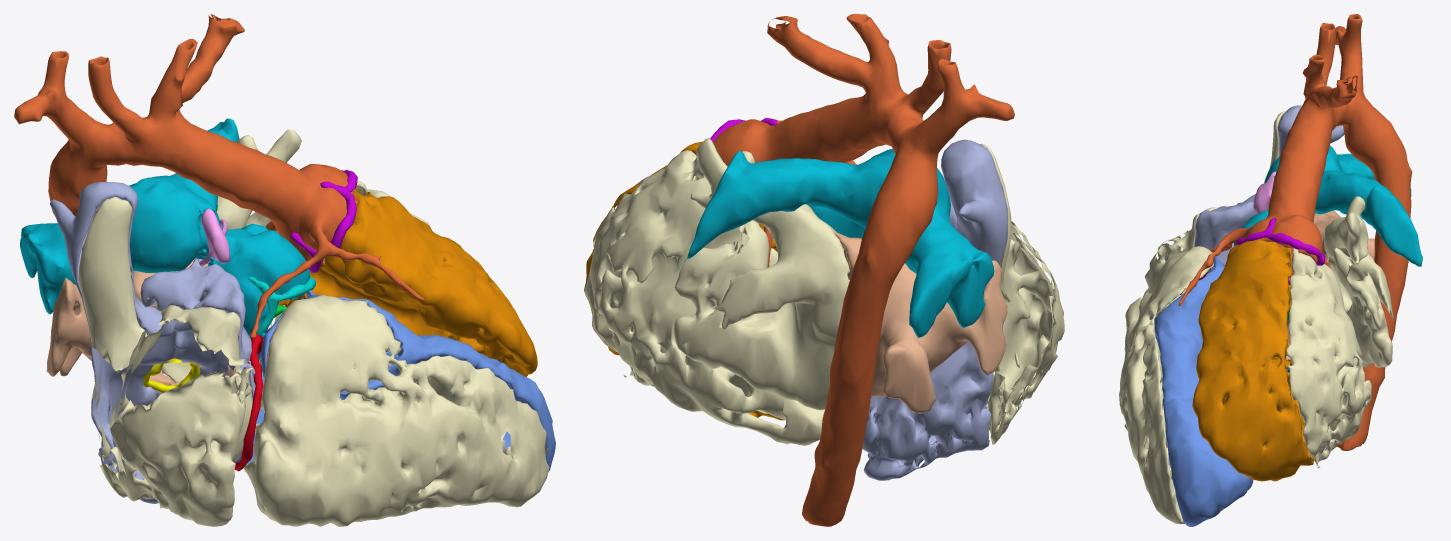
The model's file is {S,L,L}, ccTGA, subPVSD, ASD.gltf.
3 renders of one model, left to right at view 1: azimuth 30°, elevation 25°; view 2: azimuth 150°, elevation 25°; view 3: azimuth 270°, elevation 25°, orthographic. The views are drawn at different scales.
Parts seen in each view (by area): view 1: resected, ao, rv, pa, ra, lv, la, aov, mv, band, pv, asd; view 2: resected, ao, pa, ra, la, rv; view 3: resected, rv, ao, lv, pa, ra, aov, la, band.
Boxes of the visible parts, x1,y1,x2,y2 form: resected: (78,129,549,526); ao: (14,14,426,338); rv: (259,187,537,376); pa: (20,118,309,337); ra: (50,182,257,503); lv: (246,290,555,471); la: (46,258,235,385); aov: (290,169,357,272); mv: (234,334,263,471); band: (197,208,229,266); pv: (248,277,316,338); asd: (143,358,200,392); resected: (584,138,1064,445); ao: (713,14,1014,526); pa: (687,148,994,337); ra: (862,139,1007,480); la: (830,226,1007,413); rv: (584,120,784,420); resected: (1119,111,1393,524); rv: (1192,240,1314,481); ao: (1178,14,1412,450); lv: (1154,256,1253,526); pa: (1234,145,1422,266); ra: (1194,105,1344,272); aov: (1235,218,1325,284); la: (1285,210,1374,360); band: (1253,171,1275,213).
Bounding box in the file's own units: 100 × 99.9 × 75.68.
